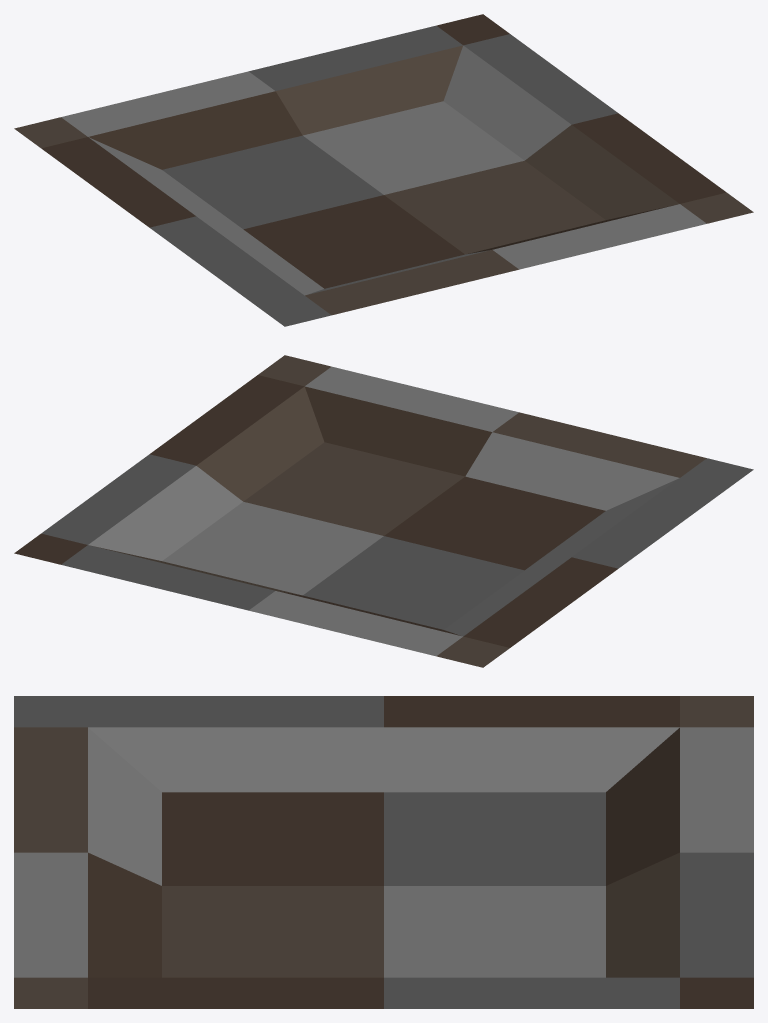
File: No_Edge_Roof.obj
The picture shows the model from 3 angles, top to bottom: view 1: azimuth 30°, elevation 25°; view 2: azimuth 150°, elevation 25°; view 3: azimuth 270°, elevation 25°; orthographic projection. The views are drawn at different scales.
Parts seen in each view (by area): view 1: No_Edge_Roof; view 2: No_Edge_Roof; view 3: No_Edge_Roof.
Part boxes in pixels (x1,y1,x2,y2): No_Edge_Roof: [14, 14, 753, 326]; No_Edge_Roof: [14, 355, 753, 667]; No_Edge_Roof: [14, 696, 753, 1008].
Size of the model in its own units: 1 by 0.05 by 1.
